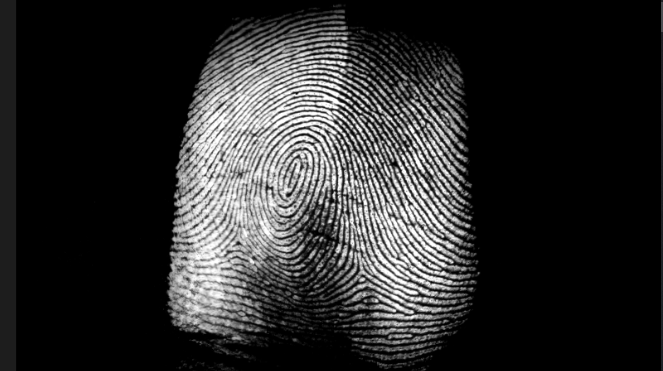nucelo: (280, 152, 306, 198)
verticilo: (347, 257, 375, 283), (222, 226, 251, 250)
